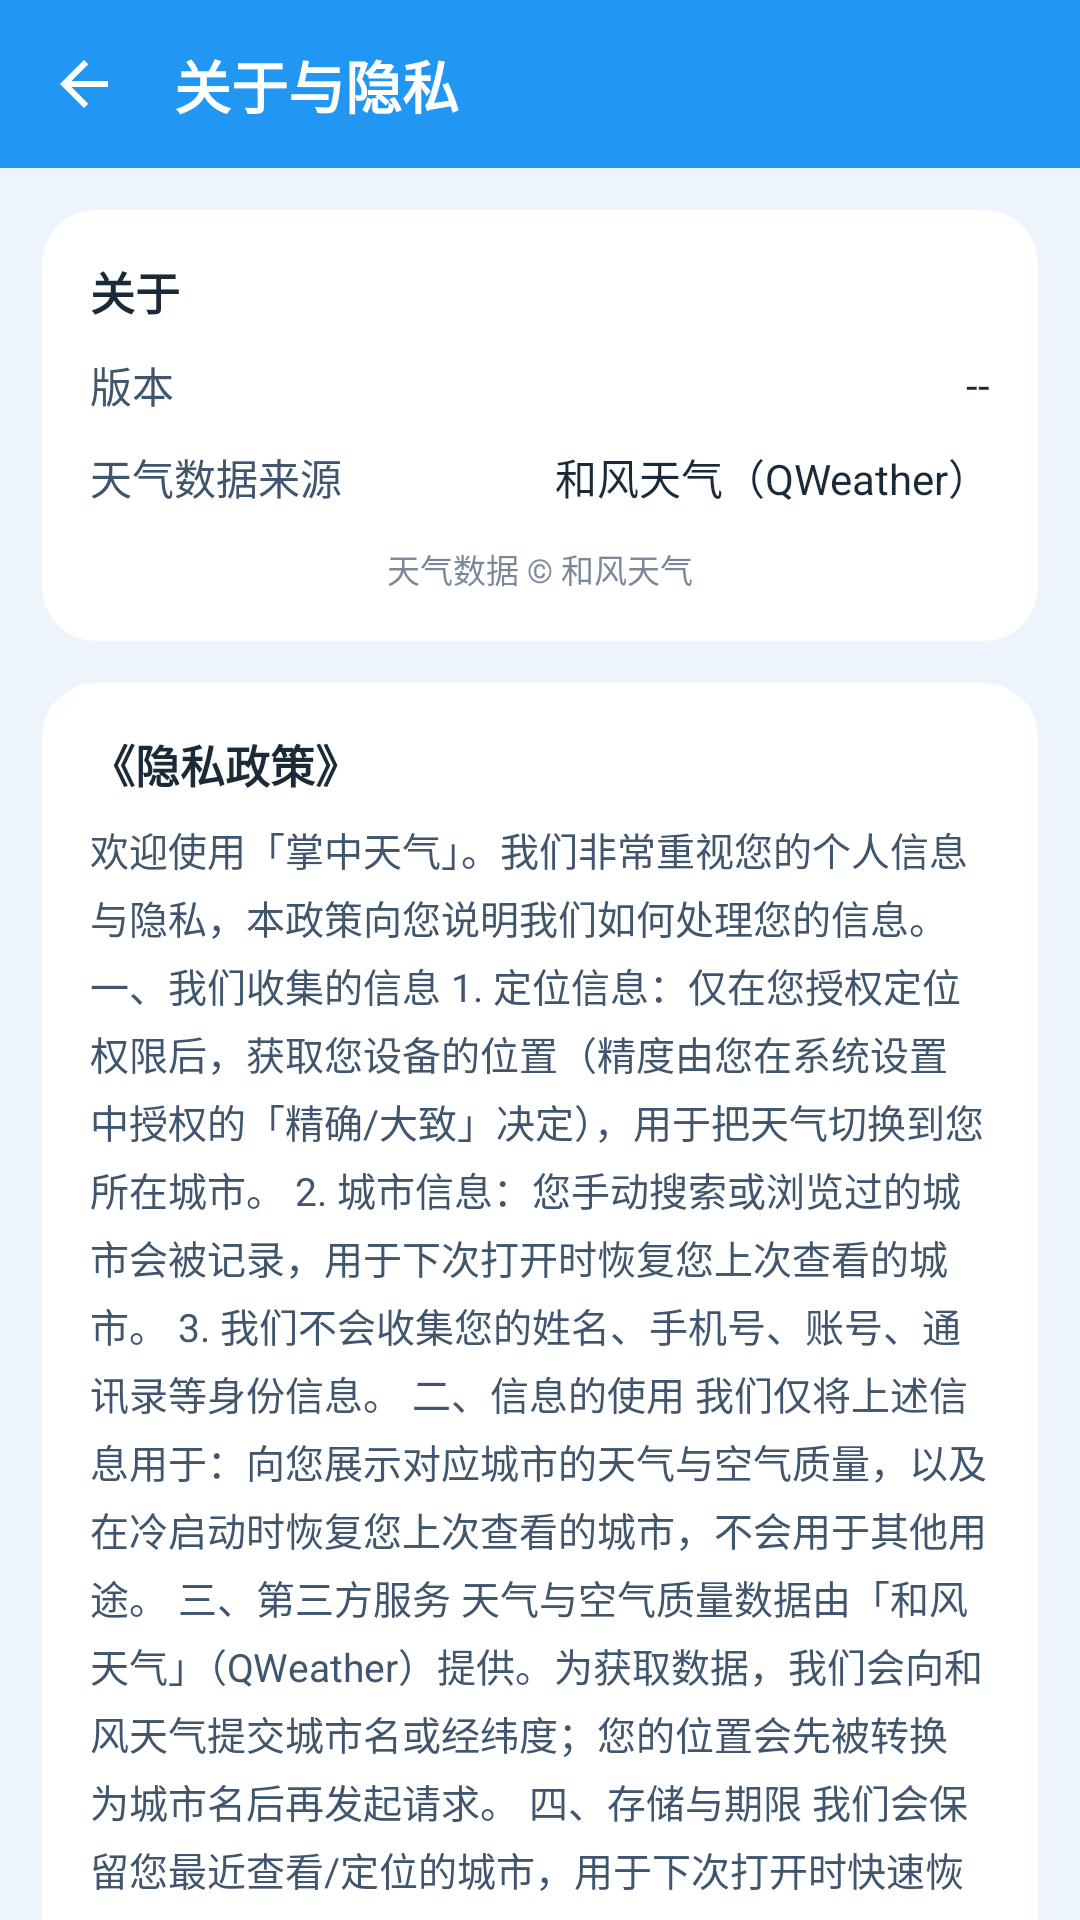

Point at icon controls on the screen. Image size 1080 x 1920, points as point (x, y).
返回: point (84, 84)
